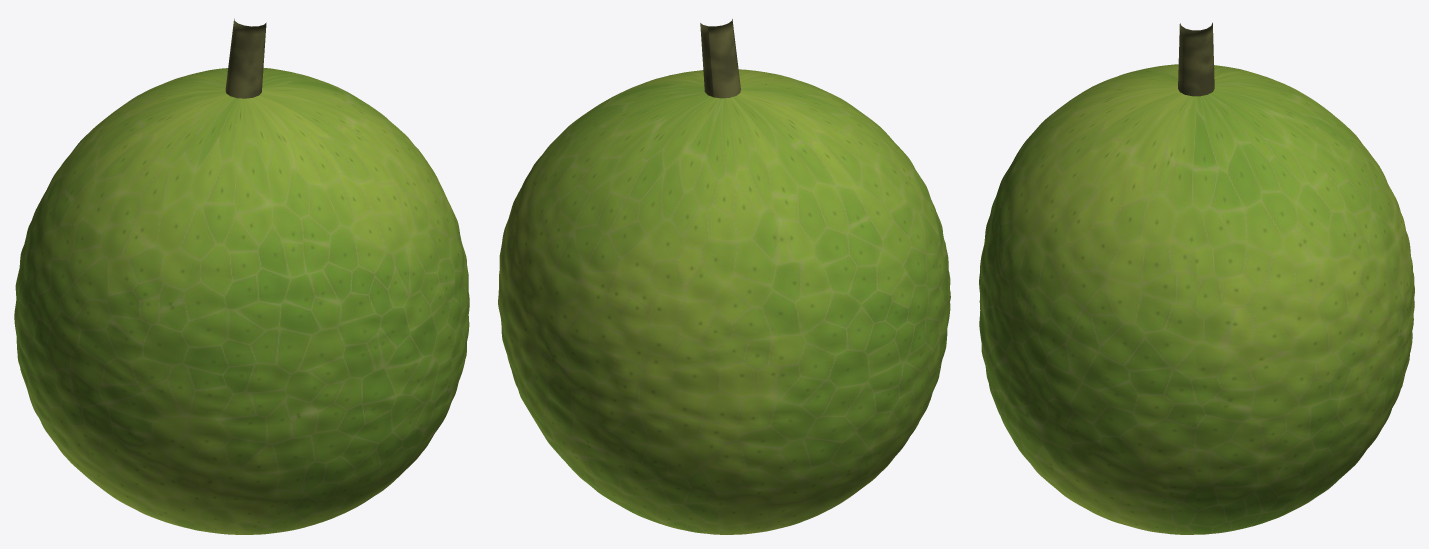
Rendered from fruit-a-pain.glb.
The picture shows the model from 3 angles, left to right: view 1: azimuth 30°, elevation 25°; view 2: azimuth 150°, elevation 25°; view 3: azimuth 270°, elevation 25°; orthographic projection.
Parts seen in each view (by area): view 1: entier_peau, moitie_A_peau, moitie_B_peau, entier_extra0; view 2: entier_peau, moitie_B_peau, moitie_A_peau, entier_extra0; view 3: entier_peau, moitie_B_peau, moitie_A_peau, entier_extra0.
Boxes of the visible parts, x1=… form: entier_peau: x1=14, y1=68, x2=469, y2=534; moitie_A_peau: x1=44, y1=86, x2=469, y2=534; moitie_B_peau: x1=14, y1=68, x2=387, y2=482; entier_extra0: x1=225, y1=18, x2=266, y2=98; entier_peau: x1=498, y1=70, x2=950, y2=534; moitie_B_peau: x1=498, y1=84, x2=922, y2=534; moitie_A_peau: x1=609, y1=69, x2=950, y2=483; entier_extra0: x1=700, y1=19, x2=740, y2=98; entier_peau: x1=979, y1=64, x2=1414, y2=534; moitie_B_peau: x1=1196, y1=65, x2=1414, y2=534; moitie_A_peau: x1=979, y1=64, x2=1196, y2=534; entier_extra0: x1=1178, y1=22, x2=1214, y2=96.
Bounding box in the file's own units: 0.1968 × 0.2325 × 0.1851.
Materials: 3 (3 with a texture image).
